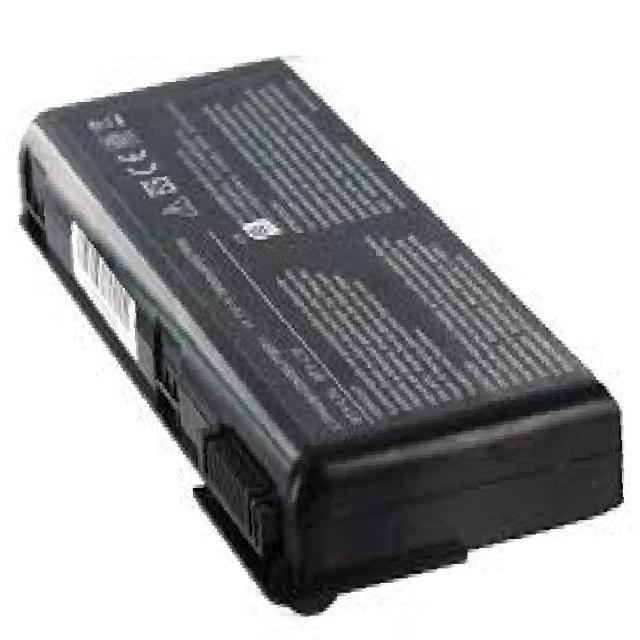Battery: (20, 20, 640, 598)
